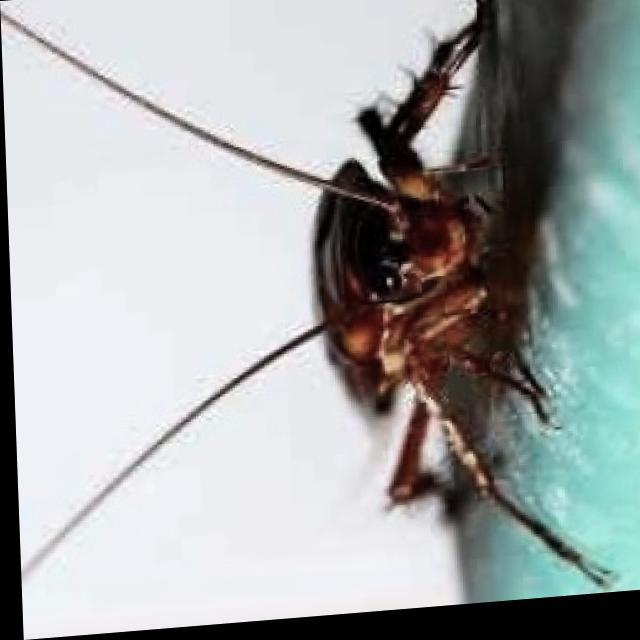cockroach: (248, 6, 546, 589)
